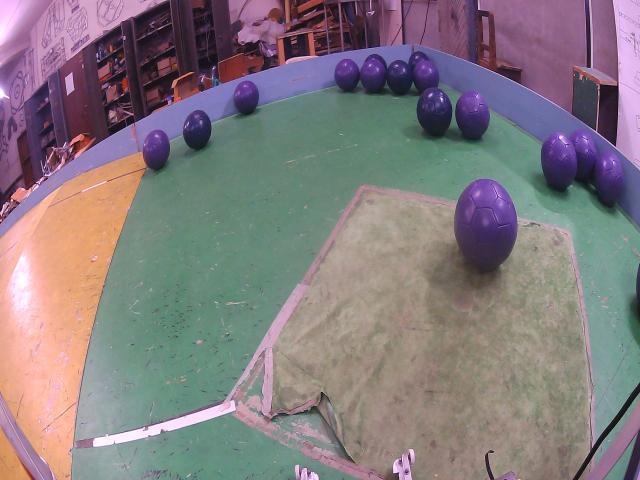jambhalya: (454, 178, 518, 272), (541, 132, 578, 190), (455, 90, 490, 138), (594, 152, 624, 207), (570, 130, 596, 182), (142, 130, 170, 170), (360, 58, 386, 93), (386, 60, 412, 95), (412, 60, 439, 93), (334, 58, 360, 92), (234, 80, 259, 115)
kaalyya: (416, 87, 452, 135), (182, 110, 211, 150), (366, 53, 388, 70), (409, 52, 429, 70)
